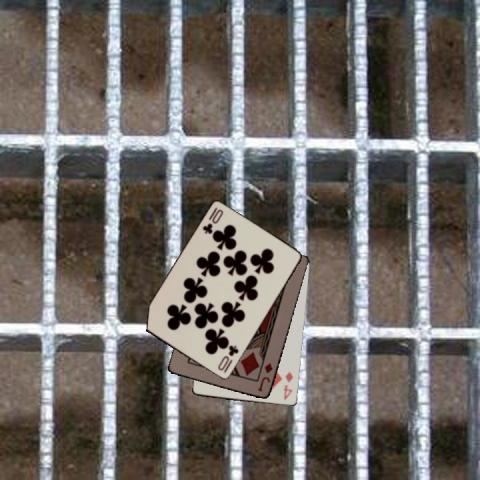10c: (215, 342, 240, 375), (199, 205, 225, 235)
4d: (281, 370, 294, 402)
Jd: (255, 360, 274, 393)
